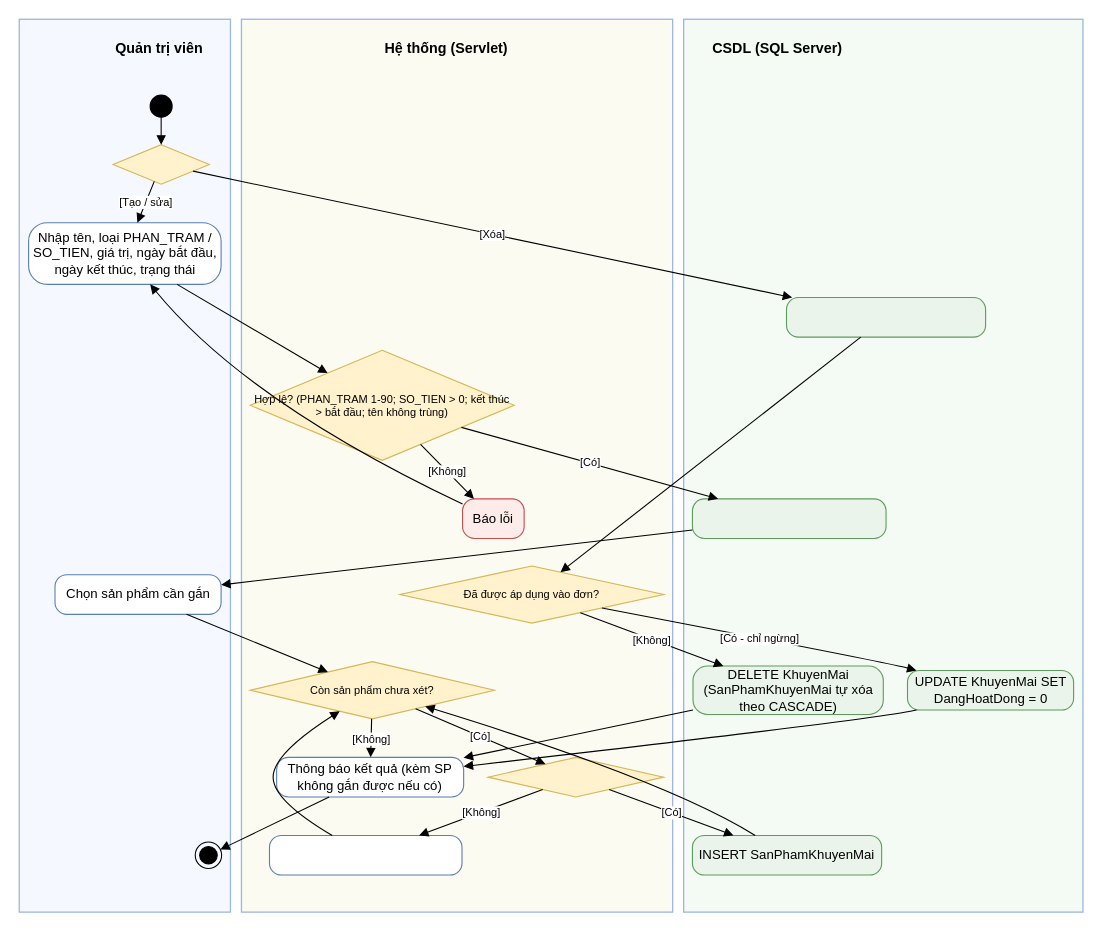
Some shapes in this 1103 by 932 pixel diagram are drawn without their labels. The centre of each missing label's shape, as x and y in pixels:
"COUNT ChiTietDonHang dùng khuyến mãi này" belongs at (x=885, y=316).
"Ghi vào danh sách SP không gắn được" belongs at (x=365, y=854).
"Giá sau giảm > 0?" belongs at (x=575, y=776).
"INSERT / UPDATE KhuyenMai" belongs at (x=788, y=518).
"Thao tác?" belongs at (x=160, y=164).
